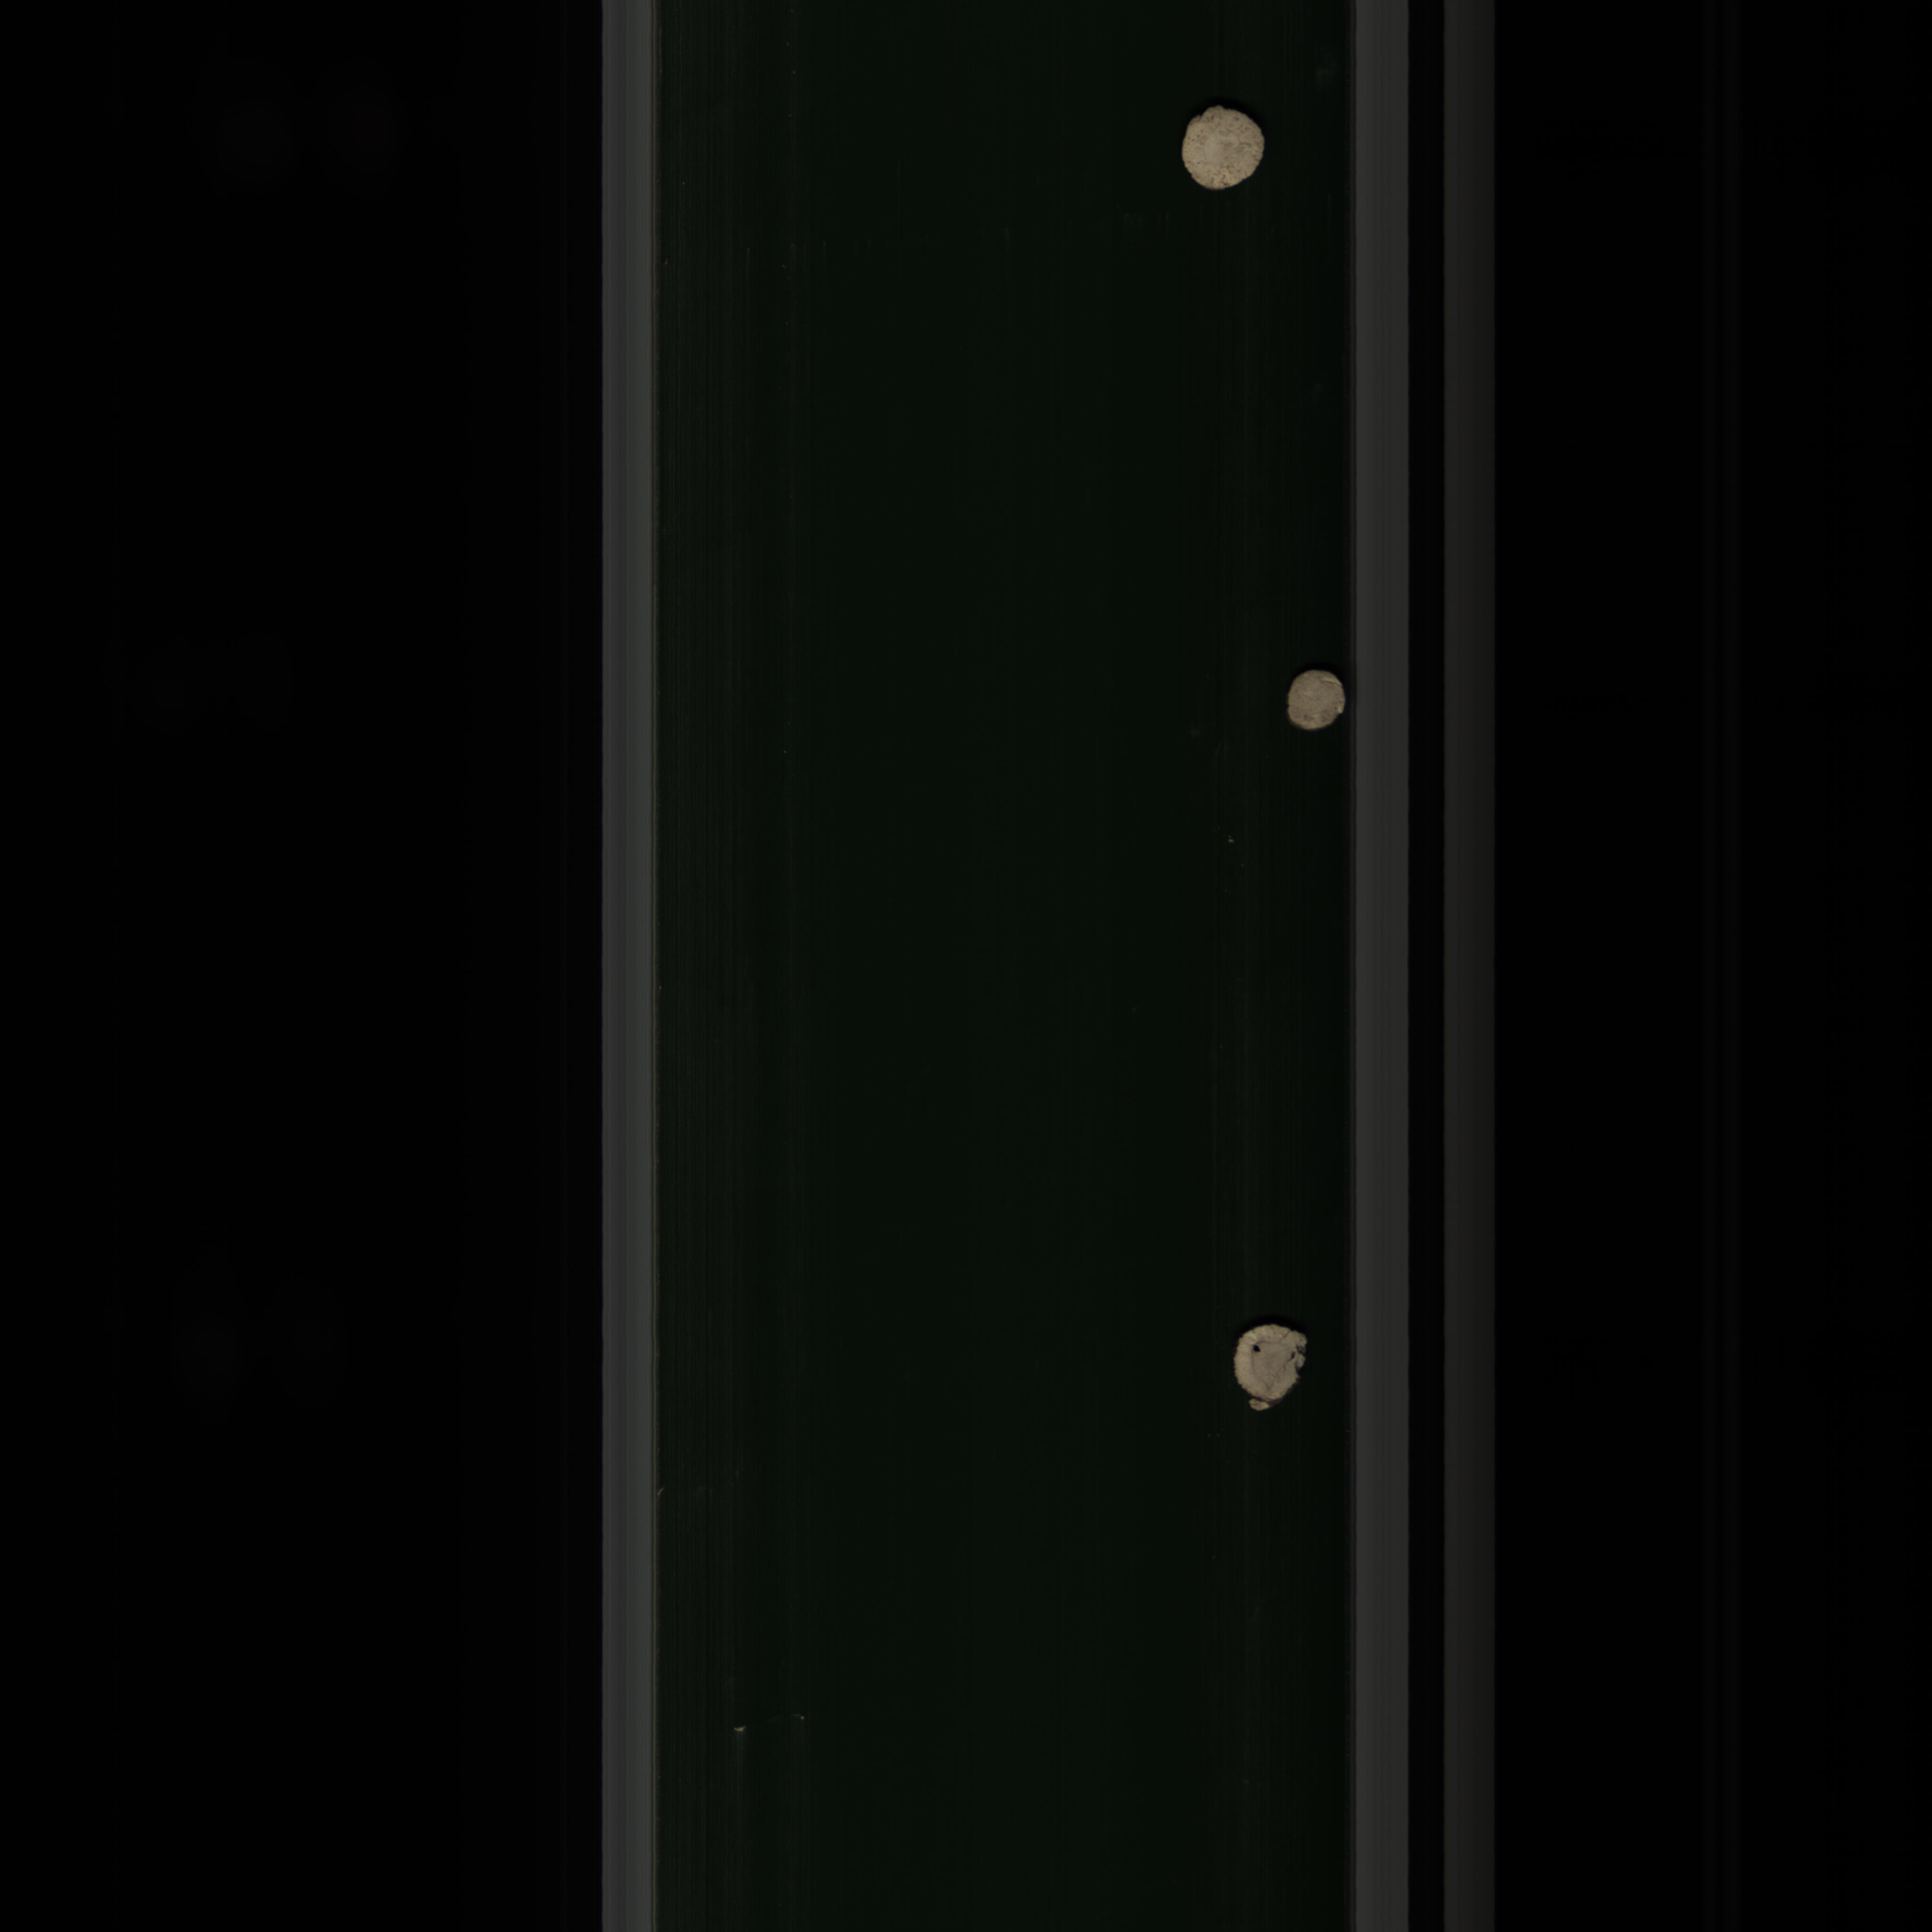hole: (1210, 1315, 1320, 1412)
